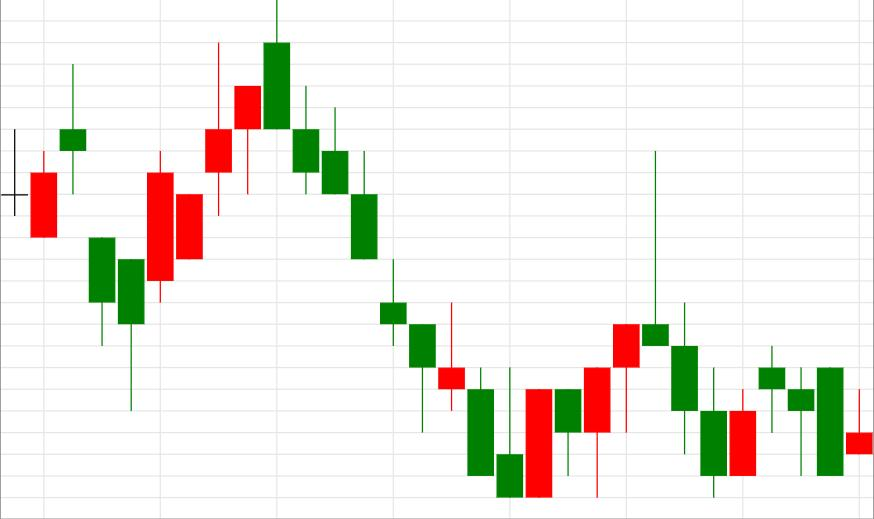hanging_man_fall: (117, 43, 261, 410)
inverse_hammer_rise: (293, 88, 522, 497)
